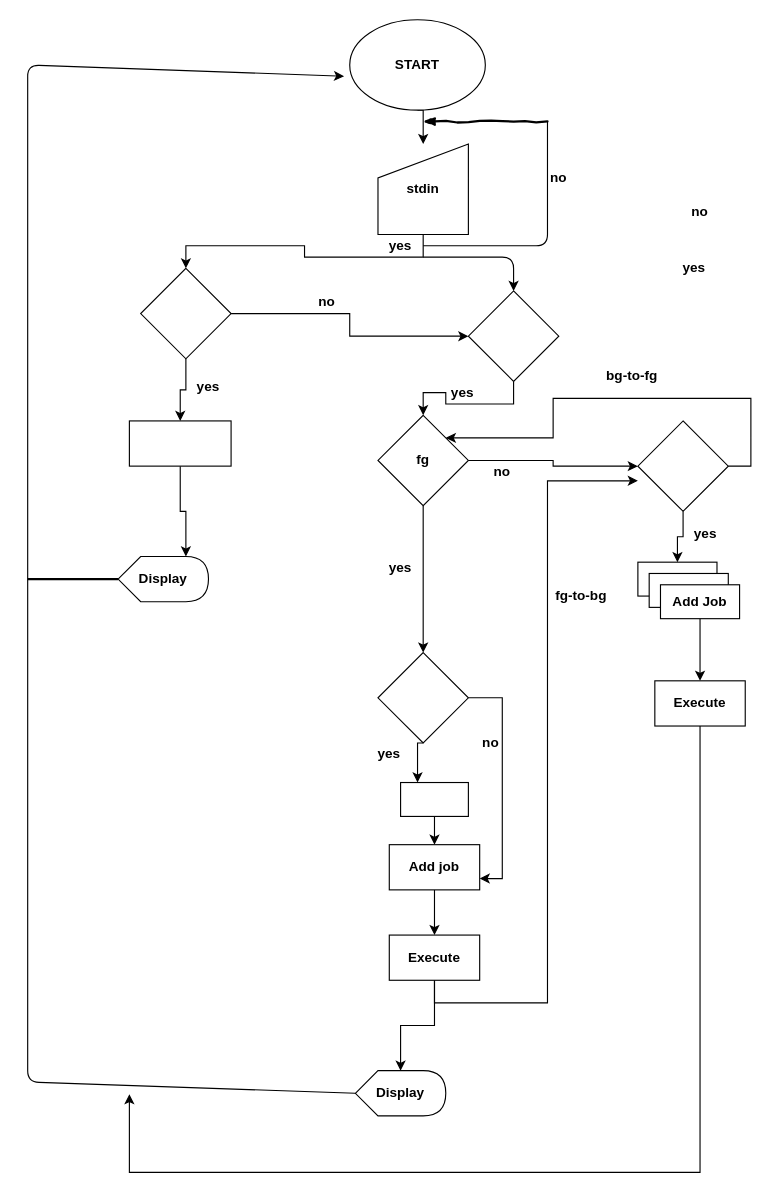
The diagram is 780 pixels wide and 1201 high, and some of its shapes have lost their labels. The shapes that lost their labels are listed below. From the top down, each one's centre as x and y in pixels, then its label:
At (185,313): "Built in".
At (513,335): "Non Built -in".
At (179,443): "Execute Process".
At (682,465): "bg".
At (422,697): "Process isrunning".
At (433,798): "Wait".
